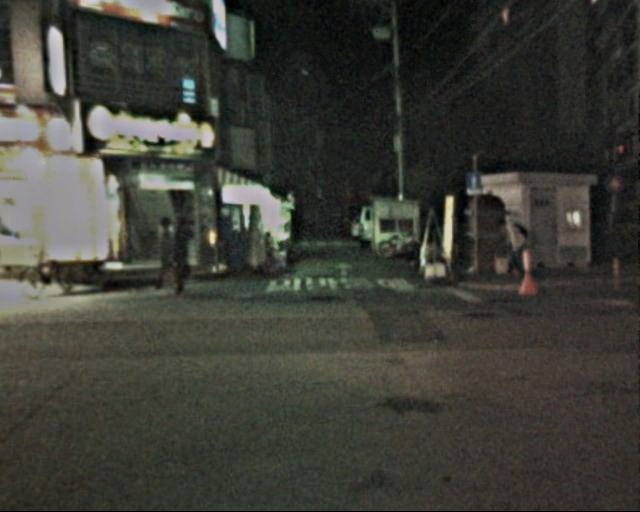person: (165, 217, 199, 301), (149, 215, 182, 295), (495, 213, 526, 289), (325, 211, 353, 248)
